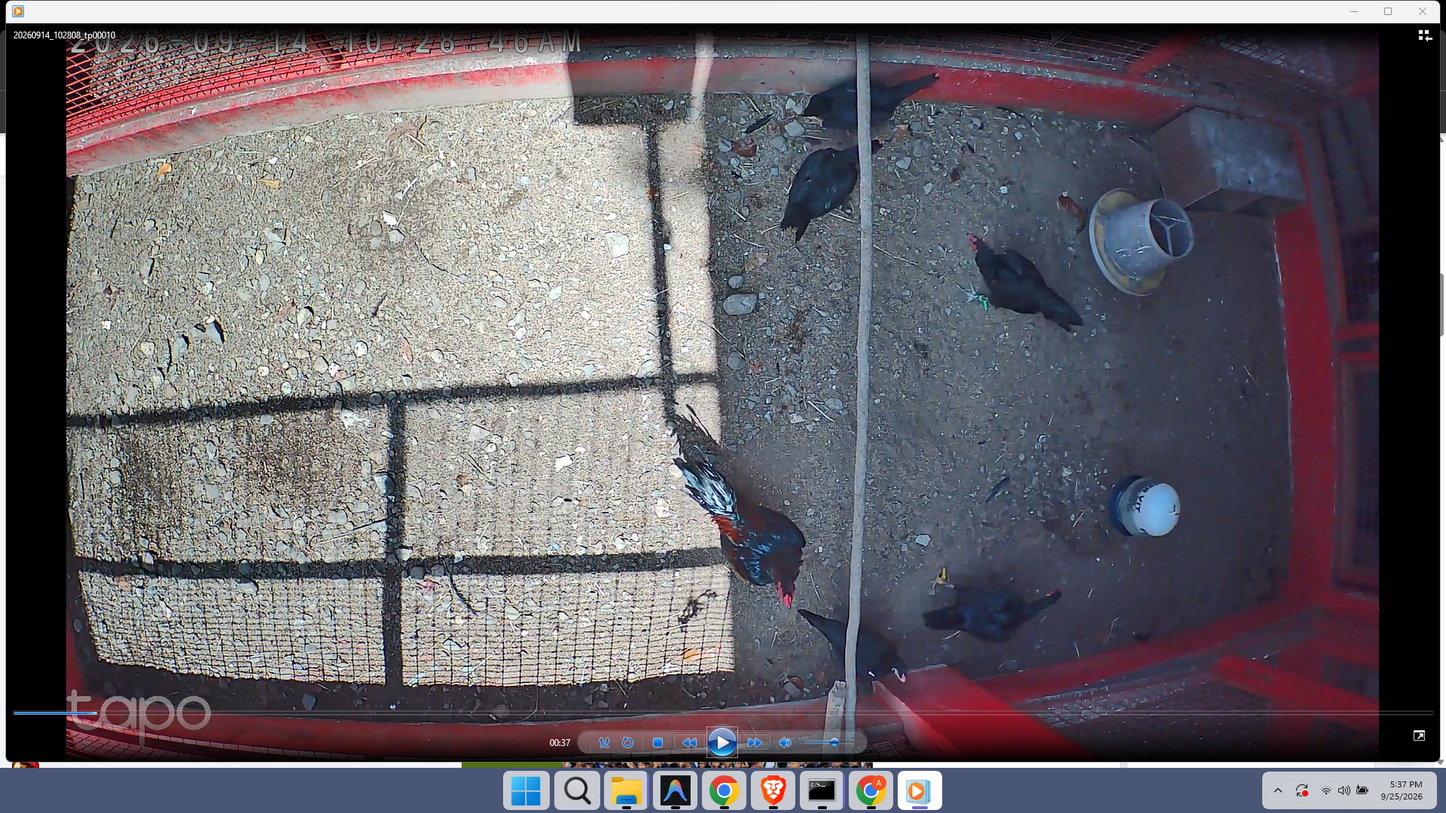Chicken: (956, 232, 1086, 335), (780, 137, 888, 246), (921, 571, 1068, 644), (796, 70, 944, 133), (795, 603, 909, 683)
Drinker: (1108, 475, 1181, 540)
Feeder: (1085, 185, 1196, 299)
Leg_Band_Green: (977, 292, 991, 311)
Leg_Band_Yellow: (936, 567, 949, 586)
Rooster: (677, 456, 809, 610)
